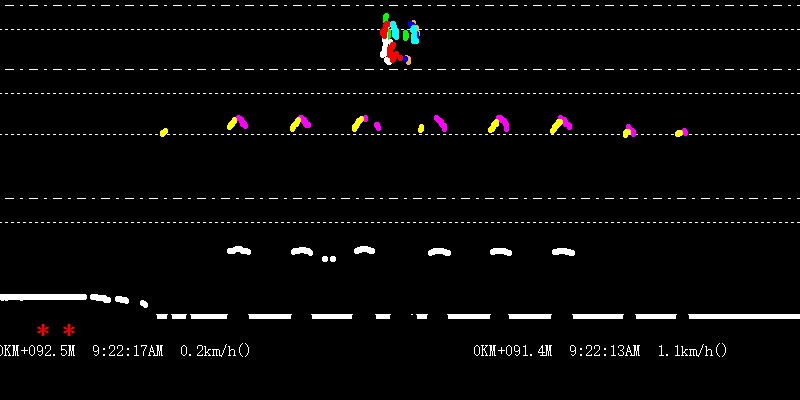J: (379, 1, 421, 65)
star: (34, 321, 52, 340), (60, 320, 76, 340)
y_p: (212, 107, 582, 266)
